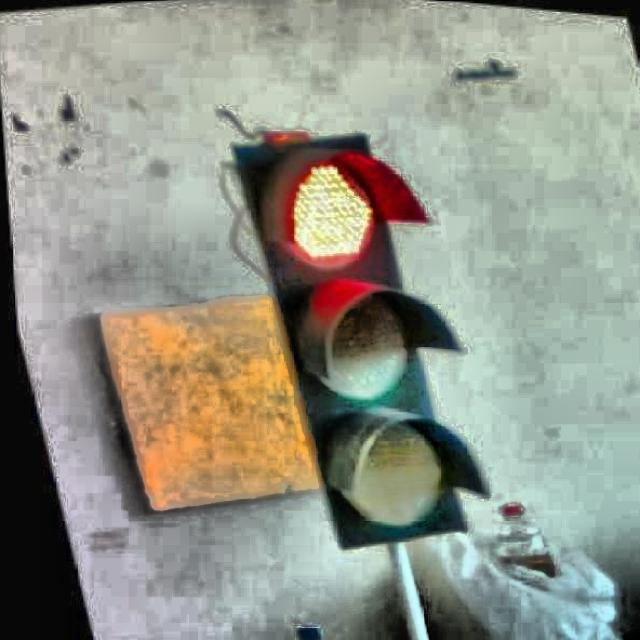red: (236, 133, 471, 542)
